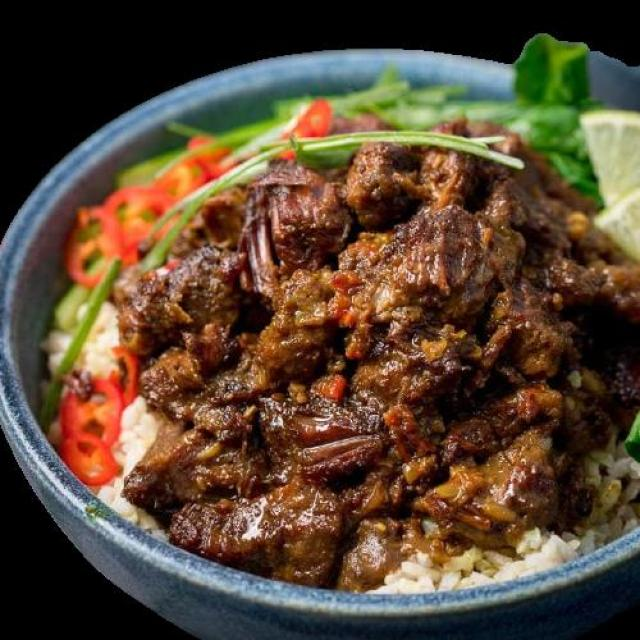Rendang: (144, 135, 640, 578)
